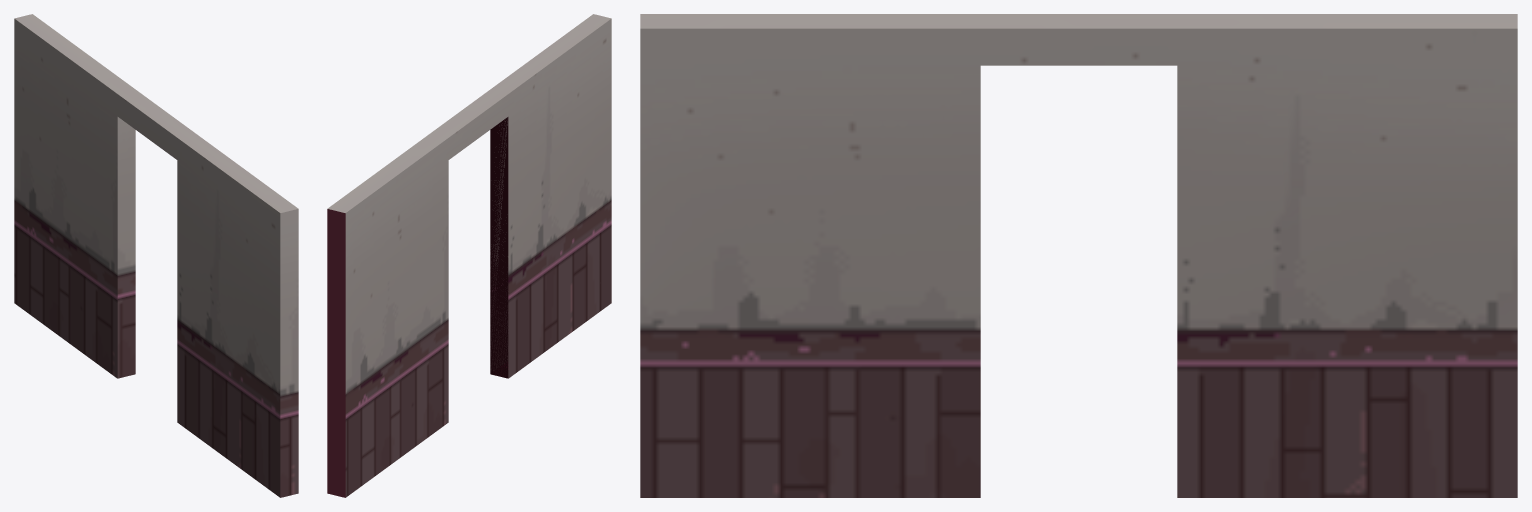
The model's file is ParedeLateral1.fbx.
The picture shows the model from 3 angles, left to right: view 1: azimuth 30°, elevation 25°; view 2: azimuth 150°, elevation 25°; view 3: azimuth 270°, elevation 25°; orthographic projection. The views are drawn at different scales.
Visible parts, largest first — view 1: ParedeLateral1; view 2: ParedeLateral1; view 3: ParedeLateral1.
Part boxes in pixels (<box>): ParedeLateral1: <box>14,14,298,497</box>; ParedeLateral1: <box>327,14,611,497</box>; ParedeLateral1: <box>640,14,1517,497</box>.
Size of the model in its own units: 22.96 by 580 by 342.
